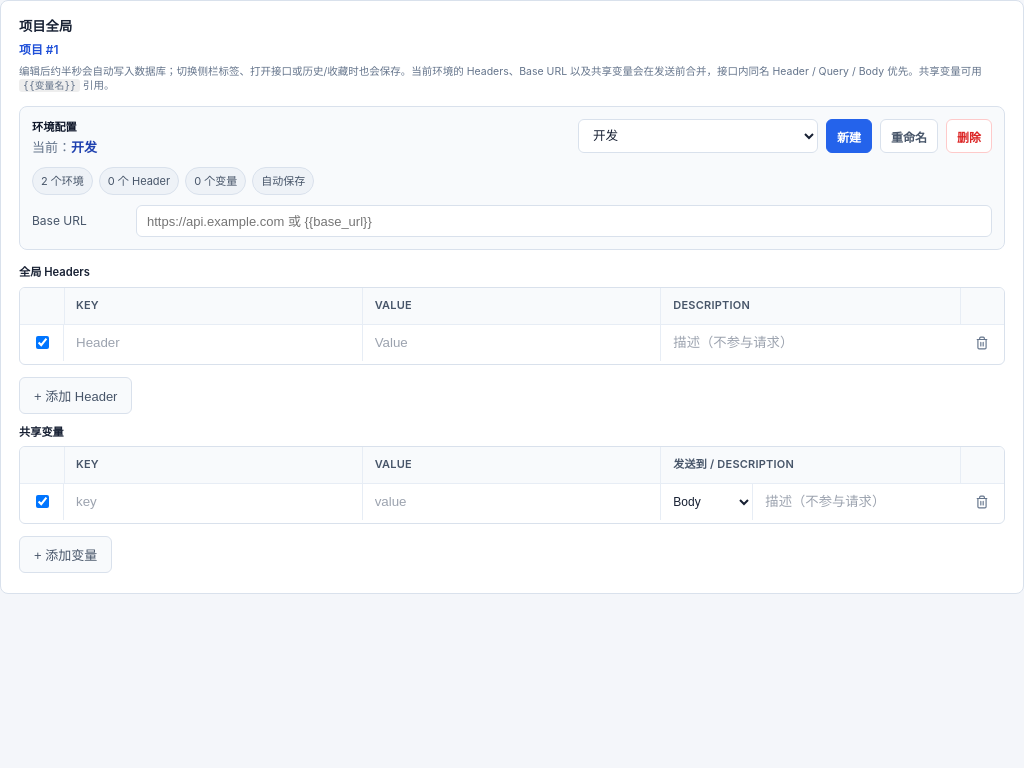
ProjectGlobalsPanel › 重命名环境通过名称输入确认后更新当前环境名称
Click the button "重命名": {"x": 909, "y": 136} 880,119 -> 938,153
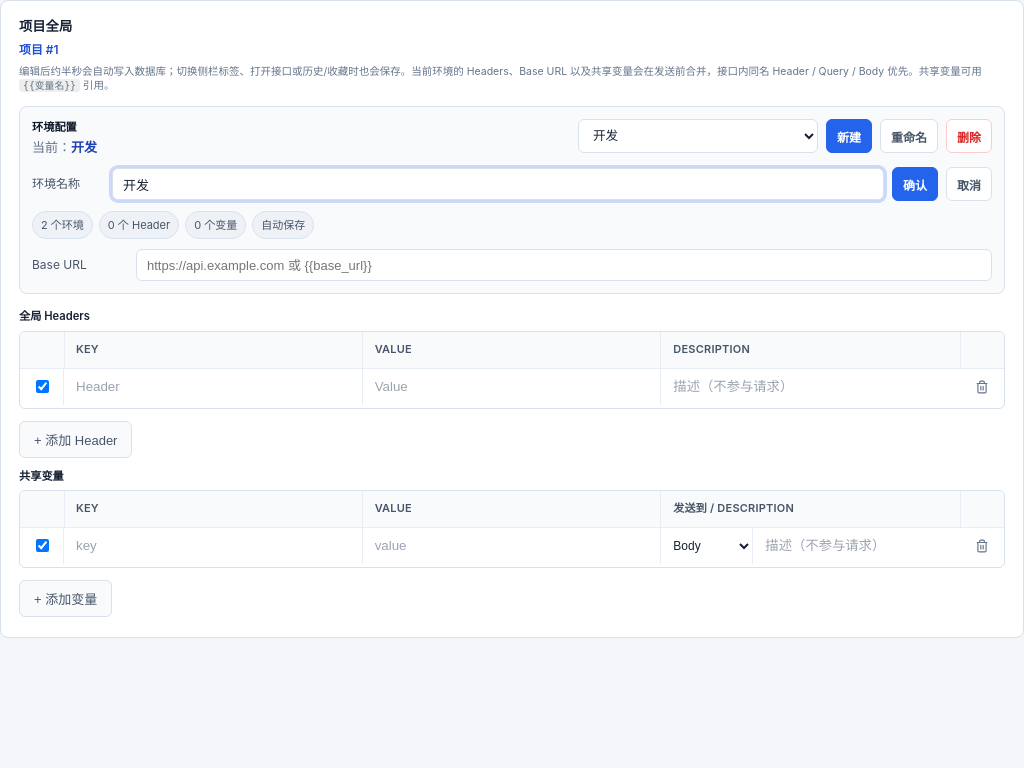
Replace the text in the field labelled "环境名称" with "本地开发": {"x": 498, "y": 184} 112,168 -> 884,200
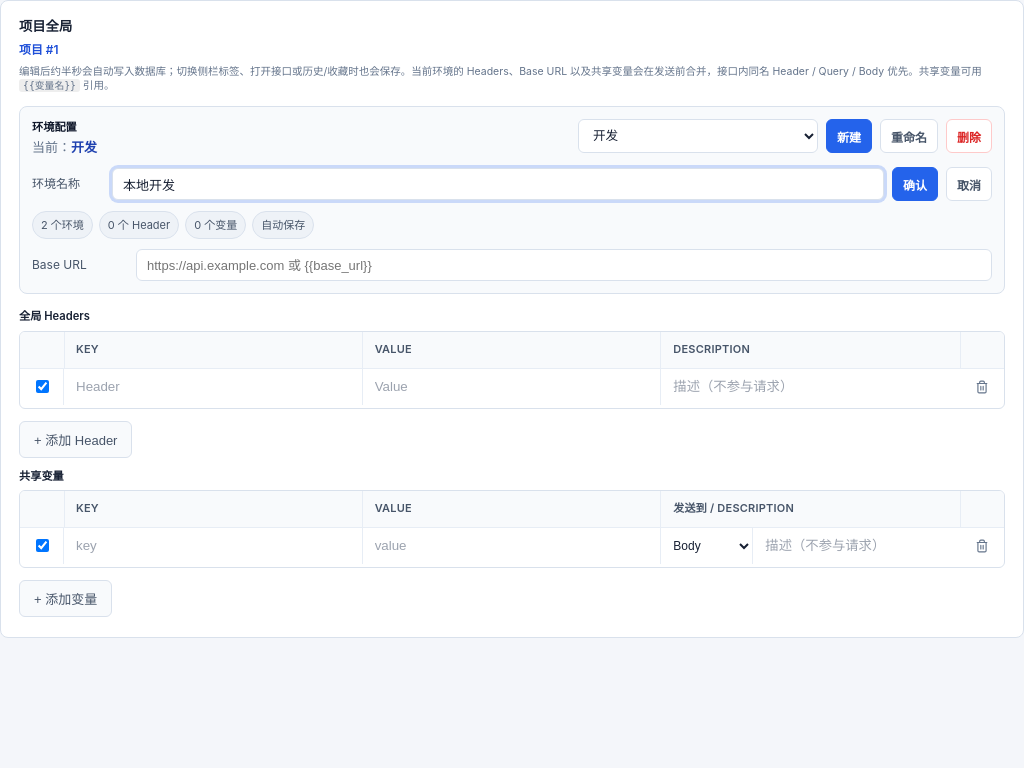
Click the button with aria-label "确认重命名环境": {"x": 915, "y": 184} 892,168 -> 938,202
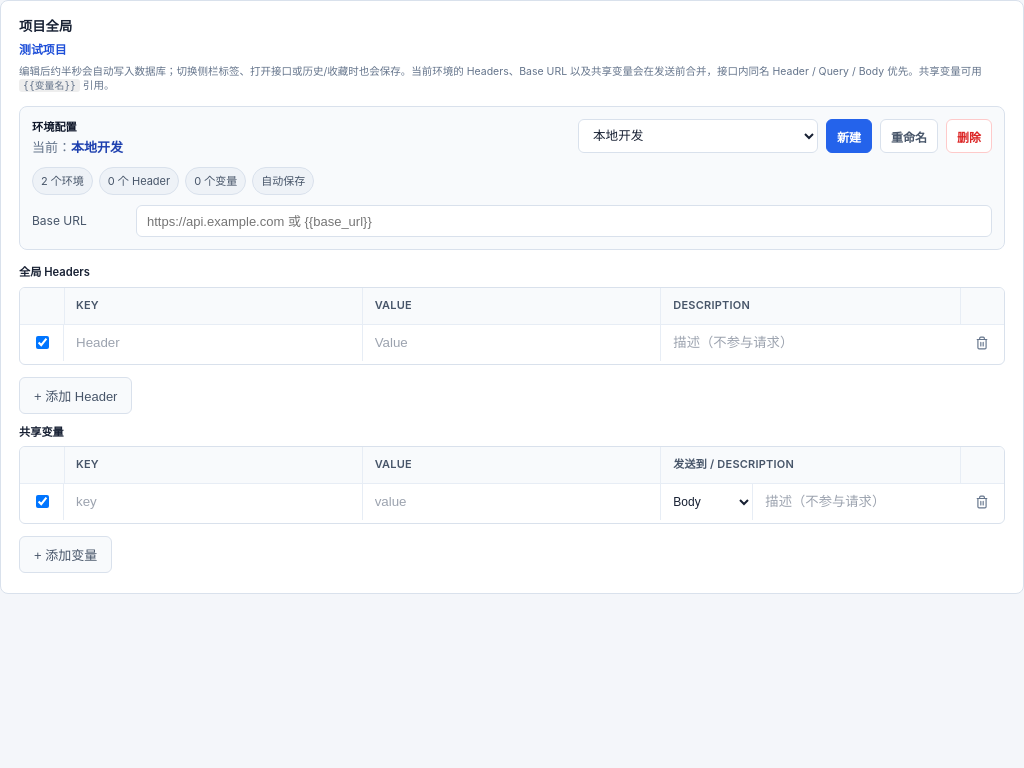
Expected: the dropdown showing "本地开发" is shown, 578,119 -> 818,153
Expected: the text "本地开发" is shown, 71,139 -> 123,155
